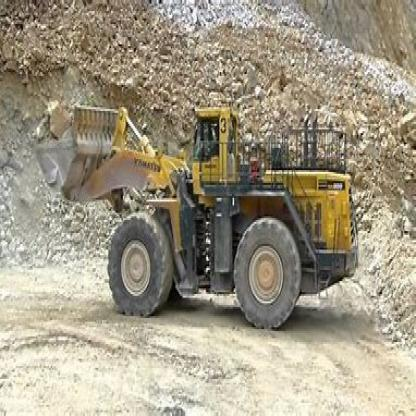bull_dozer/loader/grader: (24, 78, 358, 338)
